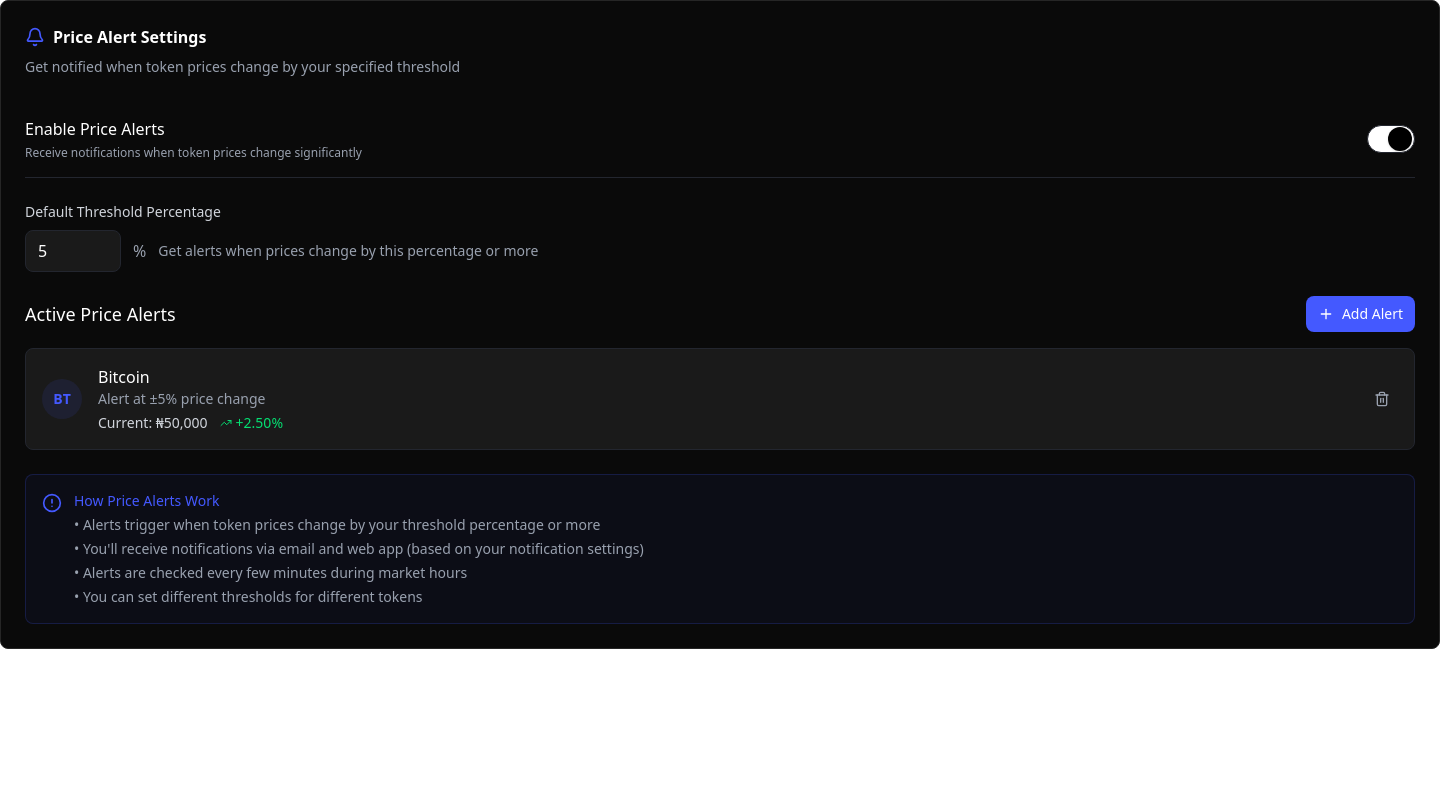
PriceAlertSettings › shows add alert form when Add Alert button is clicked
Click the button "Add Alert": x=1360, y=314 [1306, 296, 1415, 332]
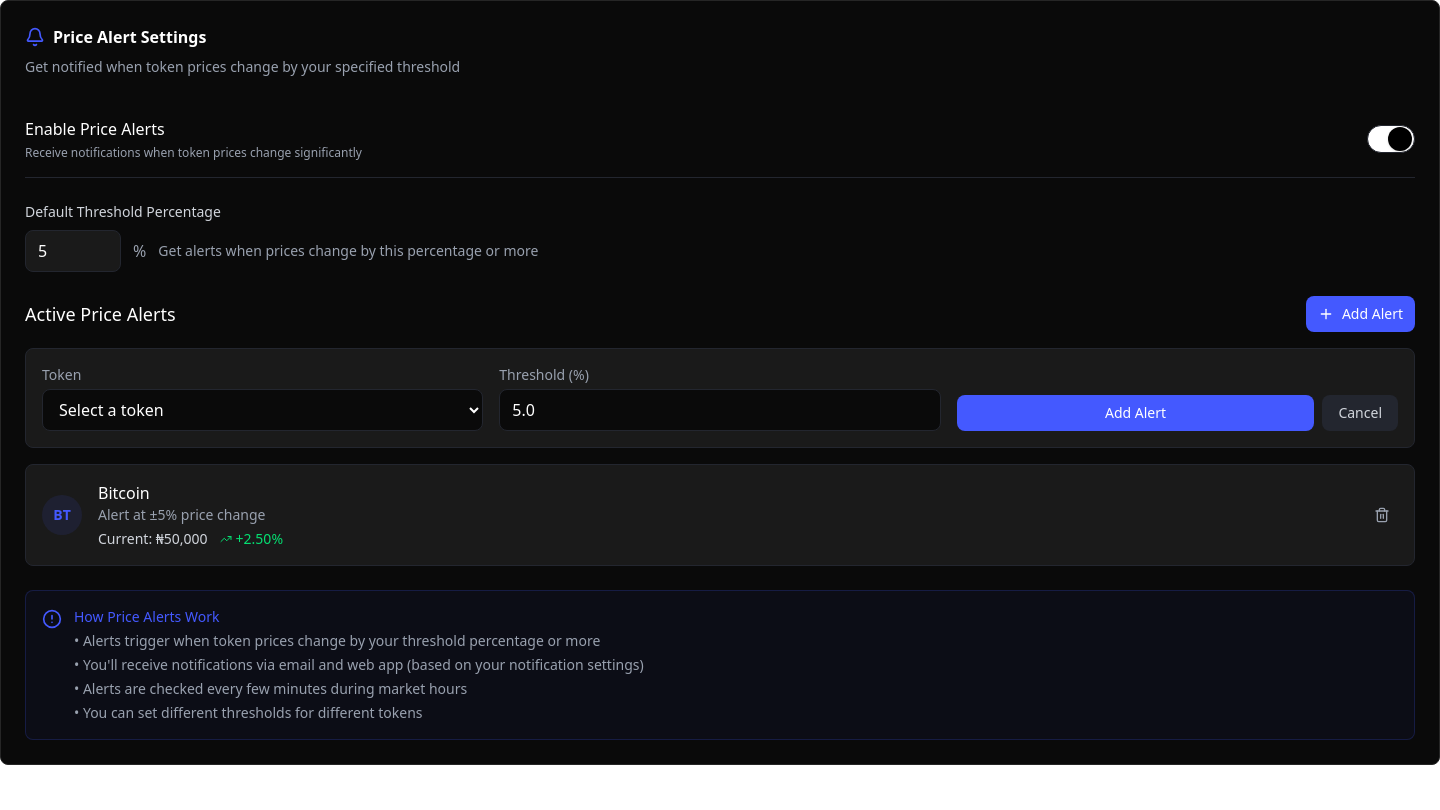
Result: the text "Token" is shown at [42, 365, 81, 384]
Result: the text "Threshold (%)" is shown at [499, 365, 589, 384]
Result: the button "Cancel" is shown at [1322, 395, 1398, 431]
